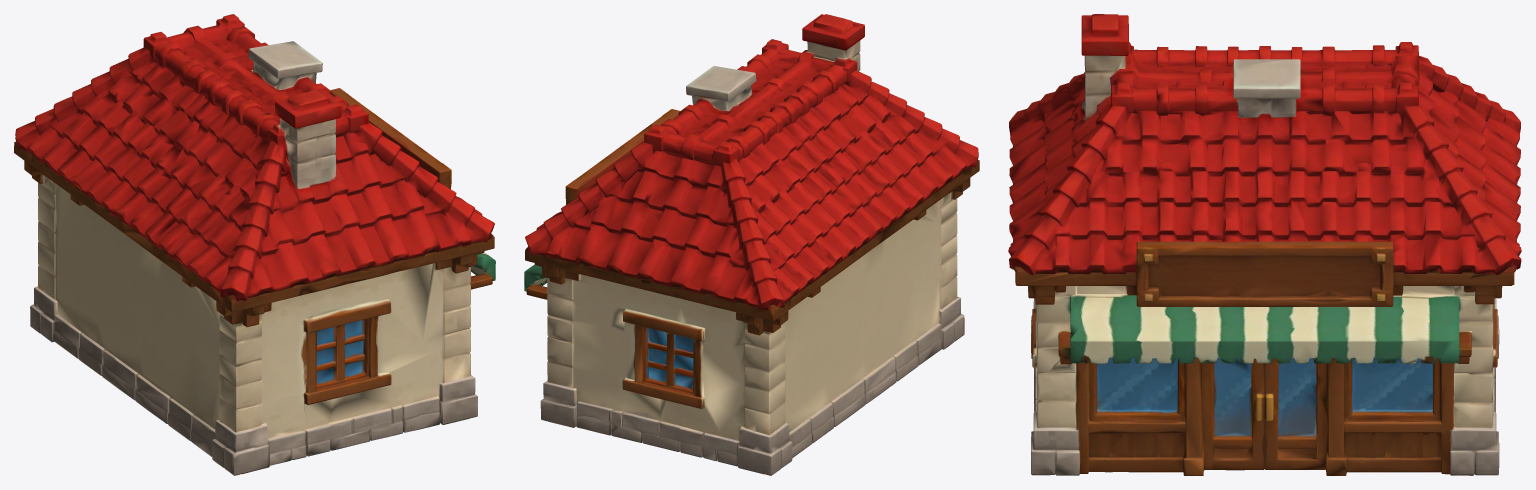
File: shop-1-lite.glb
3 views of the same model, side by side, from view 1: azimuth 30°, elevation 25°; view 2: azimuth 150°, elevation 25°; view 3: azimuth 270°, elevation 25° (orthographic). The views are drawn at different scales.
Parts seen in each view (by area): view 1: tripo_node_51251bb7-02aa-4b56-8b38-85046b758c67; view 2: tripo_node_51251bb7-02aa-4b56-8b38-85046b758c67; view 3: tripo_node_51251bb7-02aa-4b56-8b38-85046b758c67.
Part boxes in pixels (x1,y1,x2,y2): tripo_node_51251bb7-02aa-4b56-8b38-85046b758c67: (14,14,495,475); tripo_node_51251bb7-02aa-4b56-8b38-85046b758c67: (524,14,979,475); tripo_node_51251bb7-02aa-4b56-8b38-85046b758c67: (1008,14,1521,475).
Size of the model in its own units: 2.78 by 3 by 3.69.
Materials: 1 (1 with a texture image).
